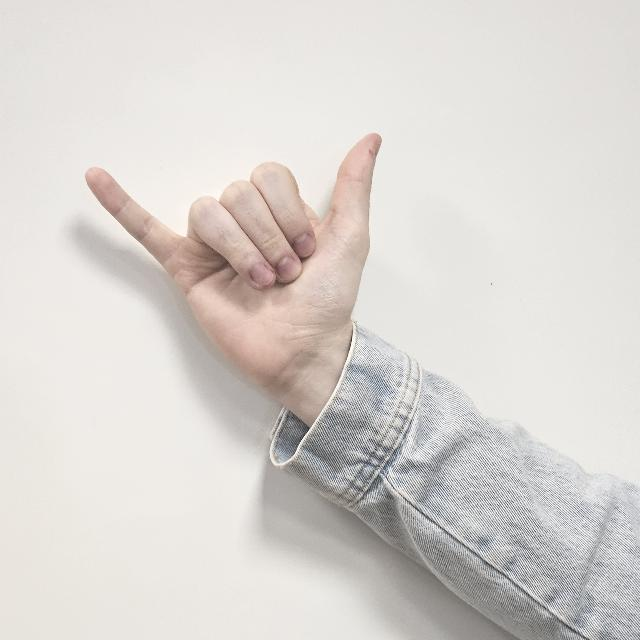Direita: (70, 126, 398, 410)
